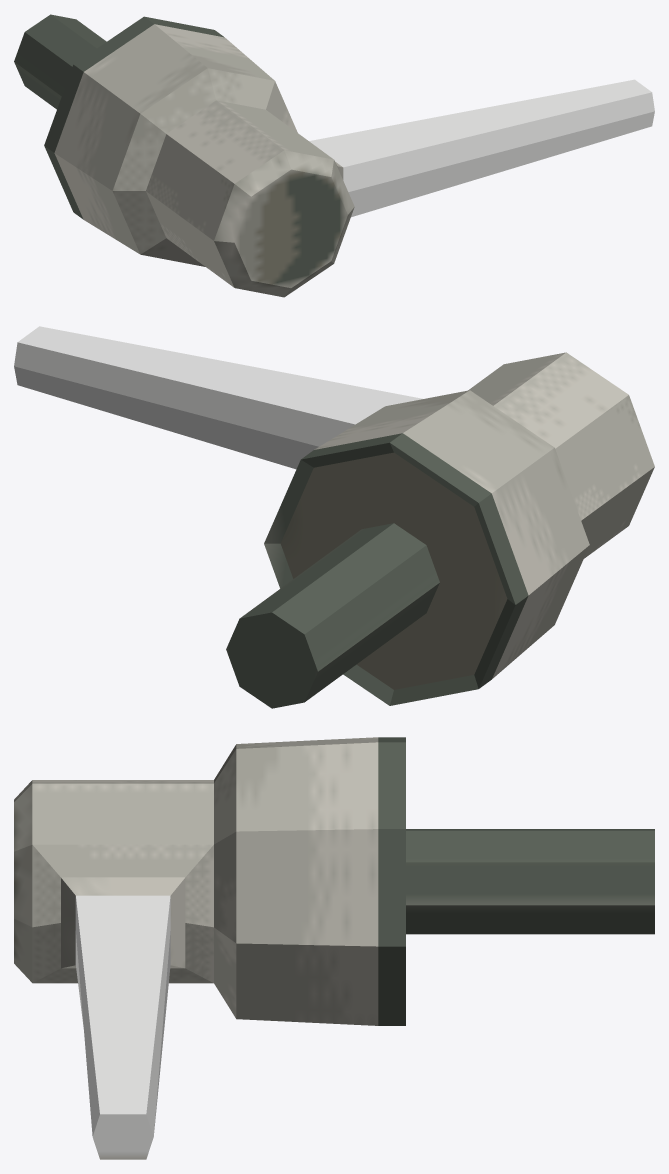
File: MaintenanceHandle.fbx
The picture shows the model from 3 angles, top to bottom: view 1: azimuth 30°, elevation 25°; view 2: azimuth 150°, elevation 25°; view 3: azimuth 270°, elevation 25°; orthographic projection. The views are drawn at different scales.
Parts seen in each view (by area): view 1: MaintenanceHandleFree; view 2: MaintenanceHandleFree; view 3: MaintenanceHandleFree.
Part boxes in pixels (x1,y1,x2,y2): MaintenanceHandleFree: (14, 14, 654, 297); MaintenanceHandleFree: (14, 326, 654, 708); MaintenanceHandleFree: (14, 737, 654, 1159).
Size of the model in its own units: 1.06 by 0.4303 by 0.8977.
